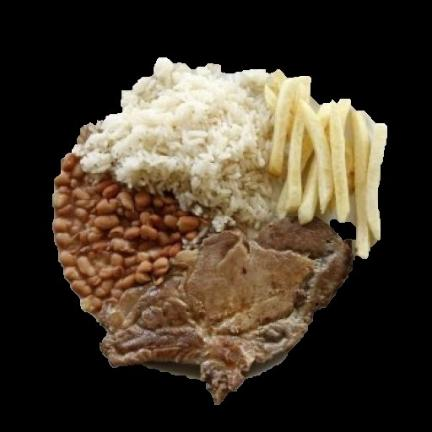beans: (53, 154, 208, 316)
meat: (99, 219, 352, 402)
potato: (265, 71, 386, 257)
rice: (73, 57, 280, 230)
